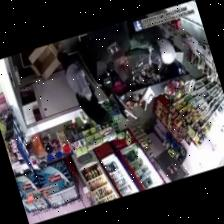person: (55, 42, 108, 124), (91, 21, 132, 81), (128, 15, 175, 62)
